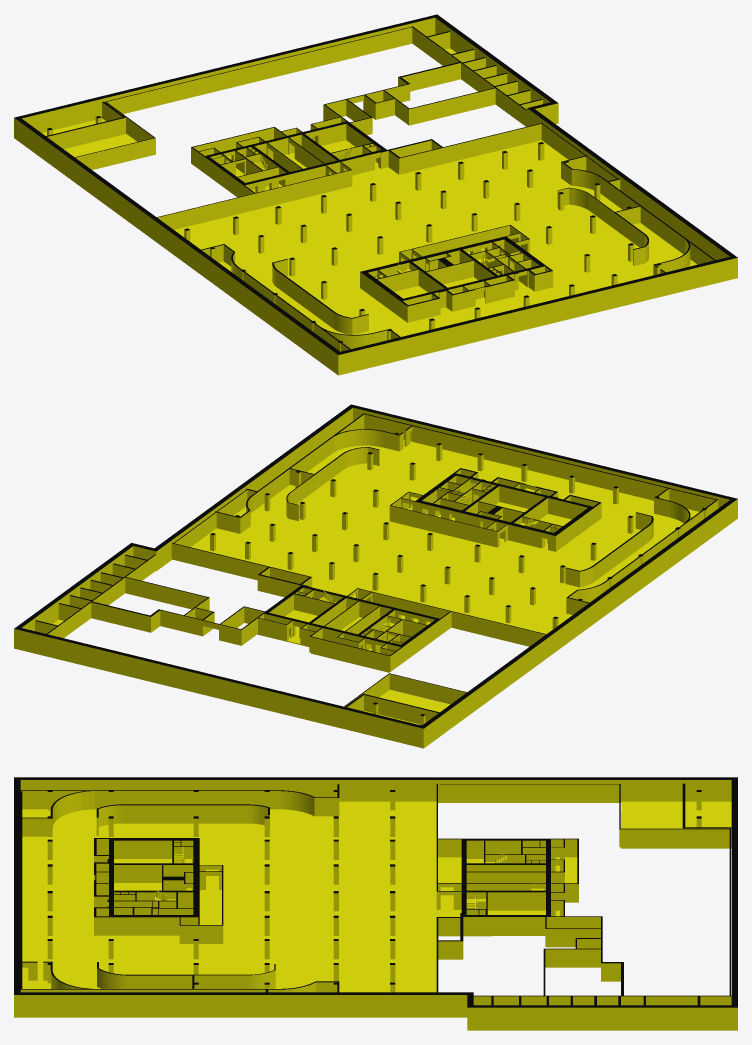
Rendered from sm_hana_building_b6f.glb.
3 renders of one model, top to bottom at view 1: azimuth 30°, elevation 25°; view 2: azimuth 150°, elevation 25°; view 3: azimuth 270°, elevation 25°, orthographic. The views are drawn at different scales.
Visible parts, largest first — view 1: sm_hana_building_b6f; view 2: sm_hana_building_b6f; view 3: sm_hana_building_b6f.
Boxes of the visible parts, <box> form: sm_hana_building_b6f: <box>14,14,737,375</box>; sm_hana_building_b6f: <box>14,404,737,748</box>; sm_hana_building_b6f: <box>14,777,737,1030</box>.
Bounding box in the file's own units: 86.61 × 4.68 × 115.
Materials: 5 (4 with a texture image).
